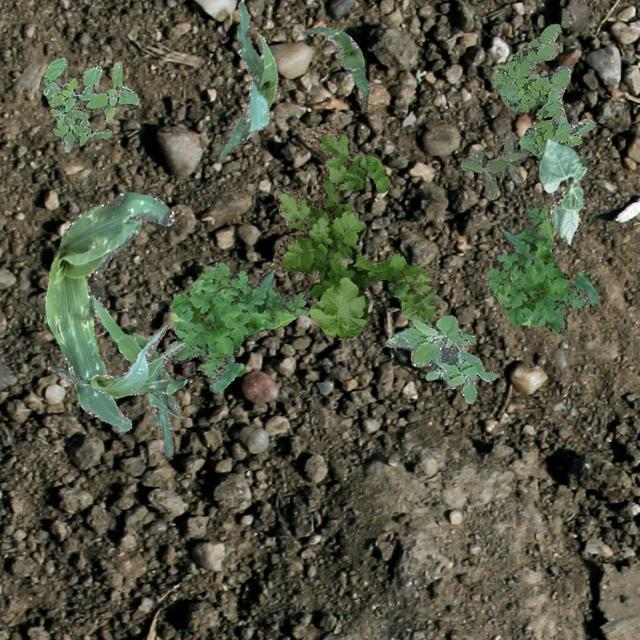crop: (44, 192, 174, 430), (91, 294, 179, 456), (50, 324, 186, 396), (220, 0, 276, 156), (301, 26, 368, 111), (536, 138, 586, 244)
weed: (272, 121, 439, 336), (170, 262, 308, 392), (484, 204, 598, 334), (494, 22, 594, 156), (384, 314, 496, 402), (42, 56, 138, 150), (460, 130, 526, 198)
